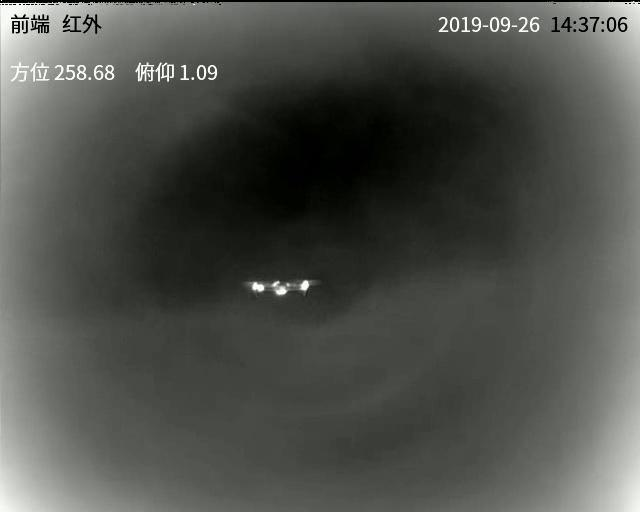DRONE: (250, 277, 312, 300)
